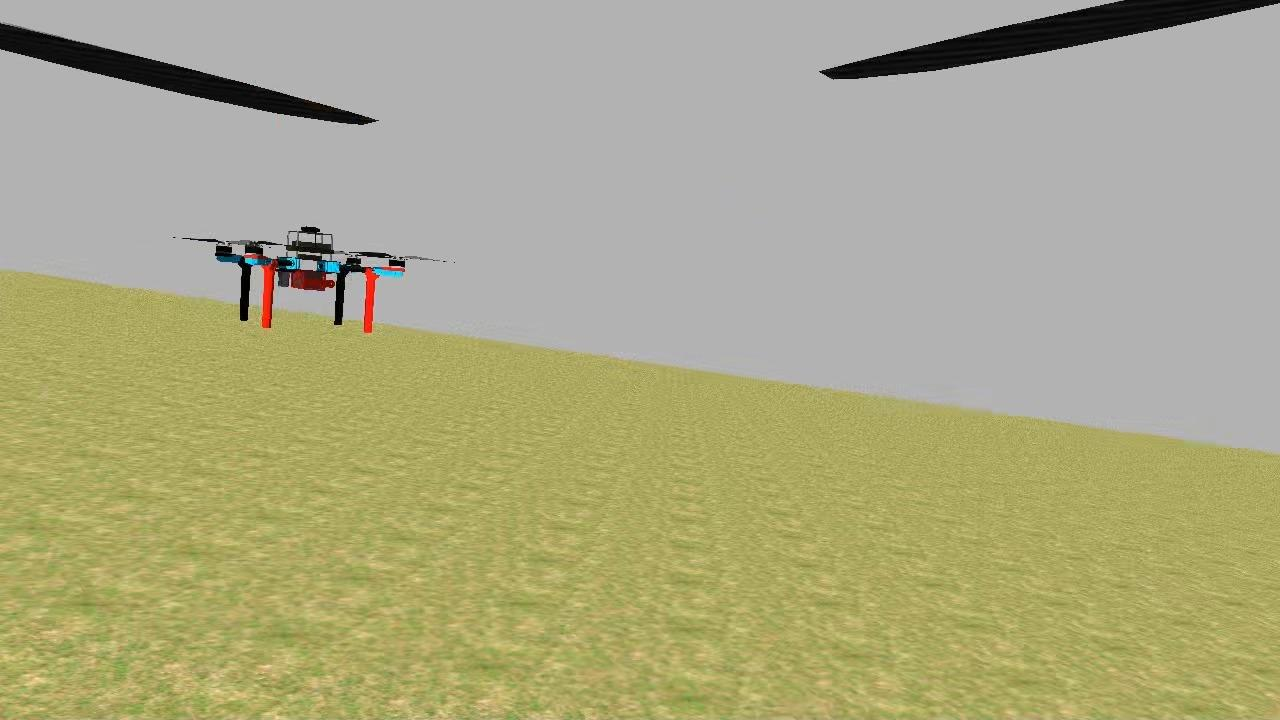UAV: (207, 216, 413, 340)
